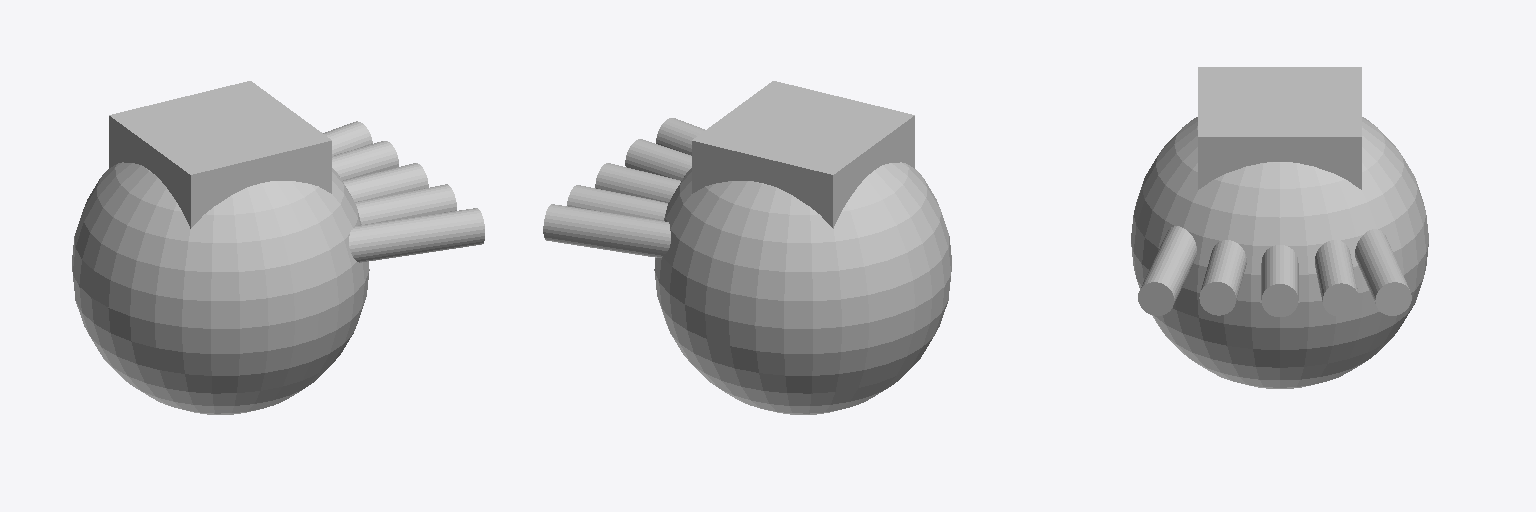
File: machineGunTower.obj
3 renders of one model, left to right at view 1: azimuth 30°, elevation 25°; view 2: azimuth 150°, elevation 25°; view 3: azimuth 270°, elevation 25°, orthographic.
Visible parts, largest first — view 1: Sphere, Cube, Cylinder.004, Cylinder.001, Cylinder, Cylinder.002, Cylinder.003; view 2: Sphere, Cube, Cylinder.003, Cylinder, Cylinder.002, Cylinder.001, Cylinder.004; view 3: Sphere, Cube, Cylinder.004, Cylinder.003, Cylinder.002, Cylinder.001, Cylinder.
Part boxes in pixels (x1,y1,x2,y2): Sphere: (72,162,369,414); Cube: (109,81,331,228); Cylinder.004: (349,208,484,262); Cylinder.001: (355,184,456,224); Cylinder: (343,163,428,201); Cylinder.002: (332,141,398,180); Cylinder.003: (323,121,372,155); Sphere: (654,162,951,414); Cube: (692,81,914,228); Cylinder.003: (543,204,670,257); Cylinder: (595,163,680,202); Cylinder.002: (567,185,667,220); Cylinder.001: (625,139,691,180); Cylinder.004: (656,118,704,155); Sphere: (1131,117,1428,388); Cube: (1198,67,1361,189); Cylinder.004: (1138,226,1196,315); Cylinder.003: (1355,229,1411,315); Cylinder.002: (1315,240,1358,316); Cylinder.001: (1199,240,1246,315); Cylinder: (1261,245,1298,316).
Bounding box in the file's own units: 2.55 × 2.02 × 2.